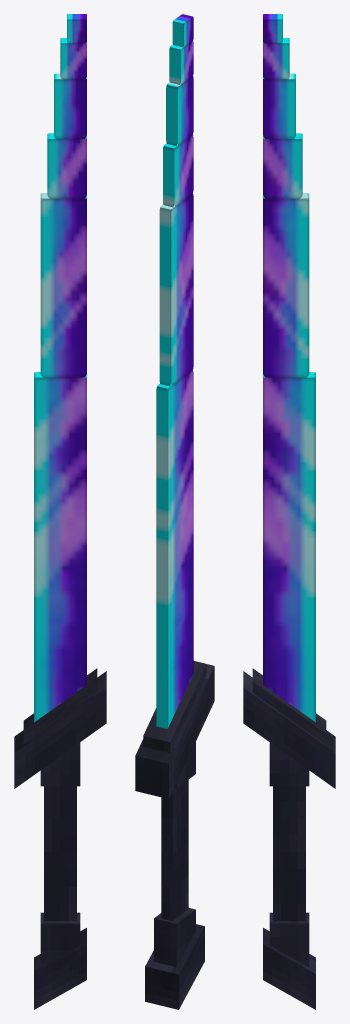
Rendered from pixel_sword4_lowpoly.fbx.
3 views of the same model, side by side, from view 1: azimuth 90°, elevation 25°; view 2: azimuth 150°, elevation 25°; view 3: azimuth 270°, elevation 25° (orthographic).
Parts seen in each view (by area): view 1: pixel_sword4_lowpoly_1, pixel_sword4_lowpoly; view 2: pixel_sword4_lowpoly_1, pixel_sword4_lowpoly; view 3: pixel_sword4_lowpoly_1, pixel_sword4_lowpoly.
Part boxes in pixels (x1=…): pixel_sword4_lowpoly_1: x1=34, y1=14, x2=86, y2=722; pixel_sword4_lowpoly: x1=14, y1=668, x2=106, y2=1009; pixel_sword4_lowpoly_1: x1=156, y1=14, x2=193, y2=728; pixel_sword4_lowpoly: x1=135, y1=661, x2=214, y2=1009; pixel_sword4_lowpoly_1: x1=263, y1=14, x2=315, y2=722; pixel_sword4_lowpoly: x1=243, y1=668, x2=335, y2=1009.
Size of the model in its own units: 3.75 by 103 by 8.75.
Materials: 2 (2 with a texture image).
